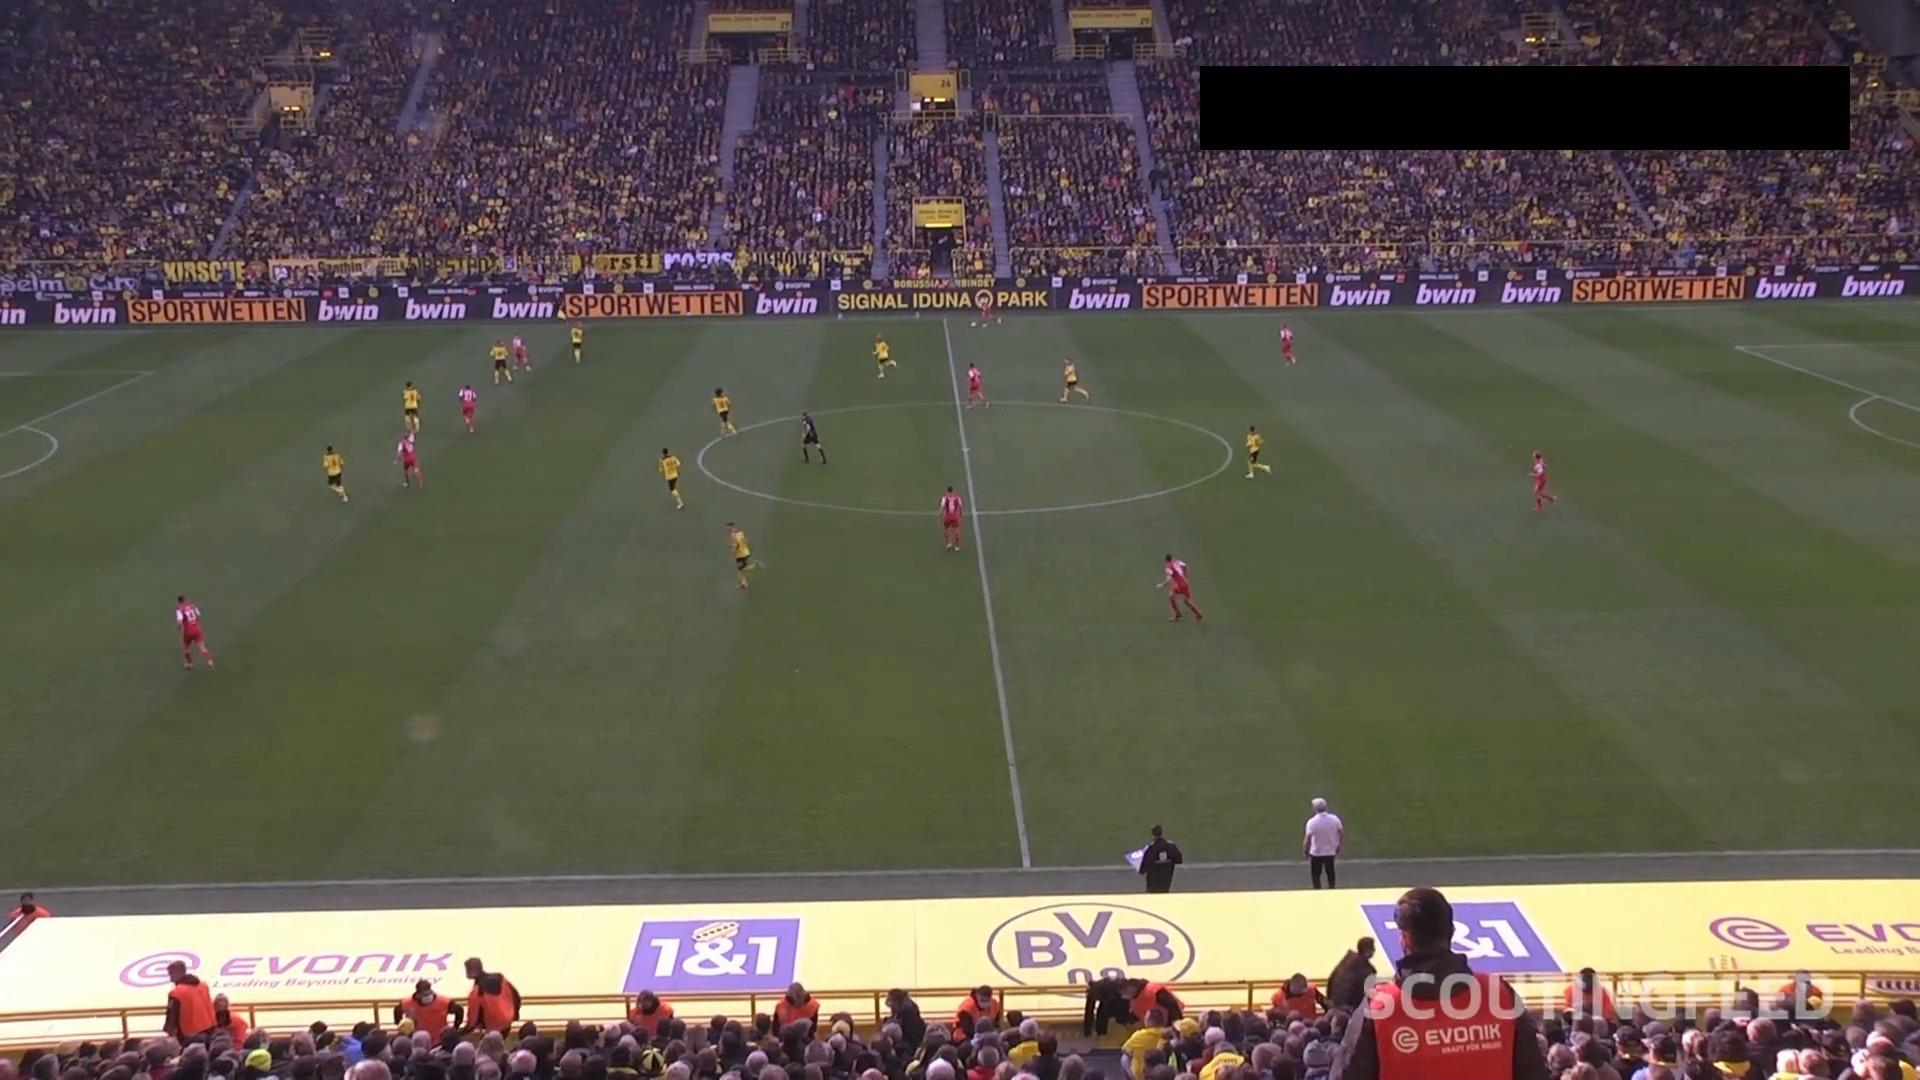coach: (1301, 796, 1343, 889), (798, 410, 826, 464)
fan: (1390, 887, 1472, 993), (1320, 931, 1386, 1027), (1081, 967, 1125, 1036)
player: (1155, 551, 1203, 621), (173, 594, 214, 670), (725, 520, 761, 589), (394, 429, 424, 488), (657, 447, 685, 510), (1528, 450, 1556, 511), (938, 483, 963, 551), (321, 443, 349, 503), (1243, 424, 1271, 478), (1058, 356, 1088, 403), (963, 361, 990, 410), (400, 379, 422, 434), (711, 386, 735, 435), (488, 338, 513, 384), (871, 335, 897, 378), (456, 383, 477, 433), (510, 333, 532, 373), (1278, 322, 1296, 366), (974, 292, 995, 327), (569, 323, 583, 363)
referee: (1136, 823, 1182, 892)
